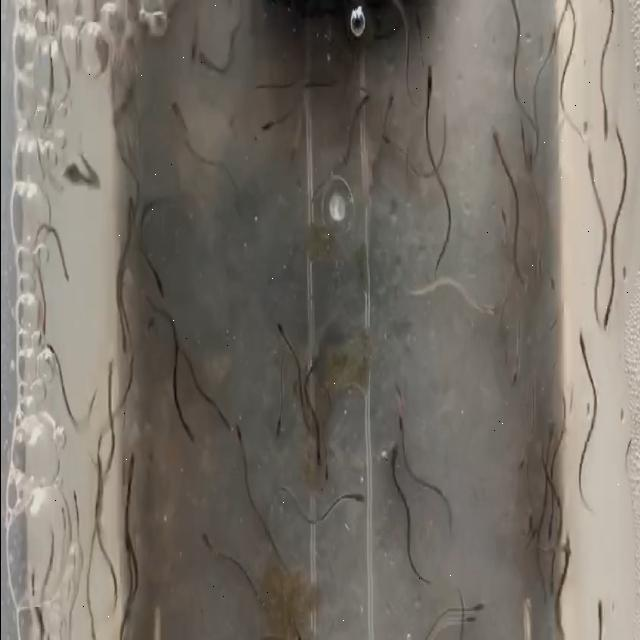active_glass_eel: (412, 49, 438, 110), (485, 106, 505, 176), (160, 70, 184, 128), (119, 186, 142, 233), (482, 286, 504, 334), (497, 200, 517, 252), (506, 104, 528, 148), (196, 50, 218, 94), (390, 397, 410, 445), (376, 428, 398, 470), (590, 104, 610, 146), (378, 129, 396, 175), (296, 443, 324, 472), (370, 88, 393, 123), (226, 415, 246, 455), (267, 396, 284, 443), (195, 514, 212, 560), (60, 160, 83, 193), (452, 605, 476, 636), (580, 152, 599, 190), (590, 590, 608, 630), (493, 357, 523, 381), (596, 303, 614, 342), (258, 98, 272, 148), (355, 83, 373, 118), (174, 419, 200, 443), (542, 252, 556, 296), (128, 446, 142, 488), (114, 322, 130, 358), (570, 337, 590, 365), (356, 491, 370, 531), (538, 26, 560, 50), (273, 313, 289, 346), (522, 157, 540, 185), (88, 444, 106, 472), (59, 264, 75, 294), (539, 513, 555, 539), (148, 280, 168, 300), (473, 584, 484, 620), (142, 308, 156, 336), (558, 543, 575, 563), (542, 578, 558, 596), (324, 462, 334, 489)
